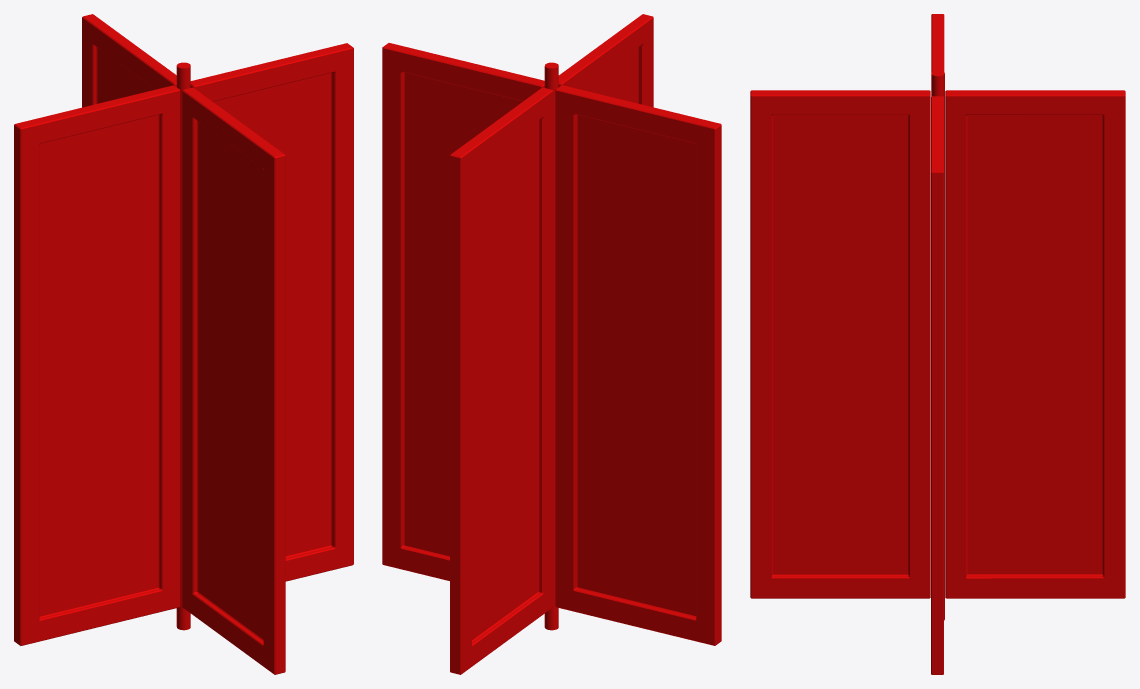
The model's file is Doors_high.fbx.
The picture shows the model from 3 angles, left to right: view 1: azimuth 30°, elevation 25°; view 2: azimuth 150°, elevation 25°; view 3: azimuth 270°, elevation 25°; orthographic projection. The views are drawn at different scales.
Visible parts, largest first — view 1: Doors_high; view 2: Doors_high; view 3: Doors_high.
Part boxes in pixels (x1,y1,x2,y2): Doors_high: [14, 14, 353, 674]; Doors_high: [382, 14, 721, 674]; Doors_high: [750, 14, 1125, 674].
Bounding box in the file's own units: 3.96 × 6.36 × 3.96.
